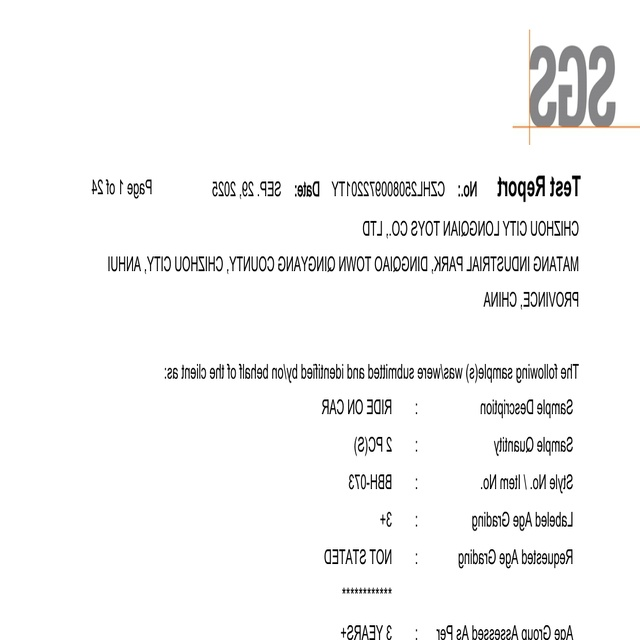sgs: (529, 45, 615, 127)
